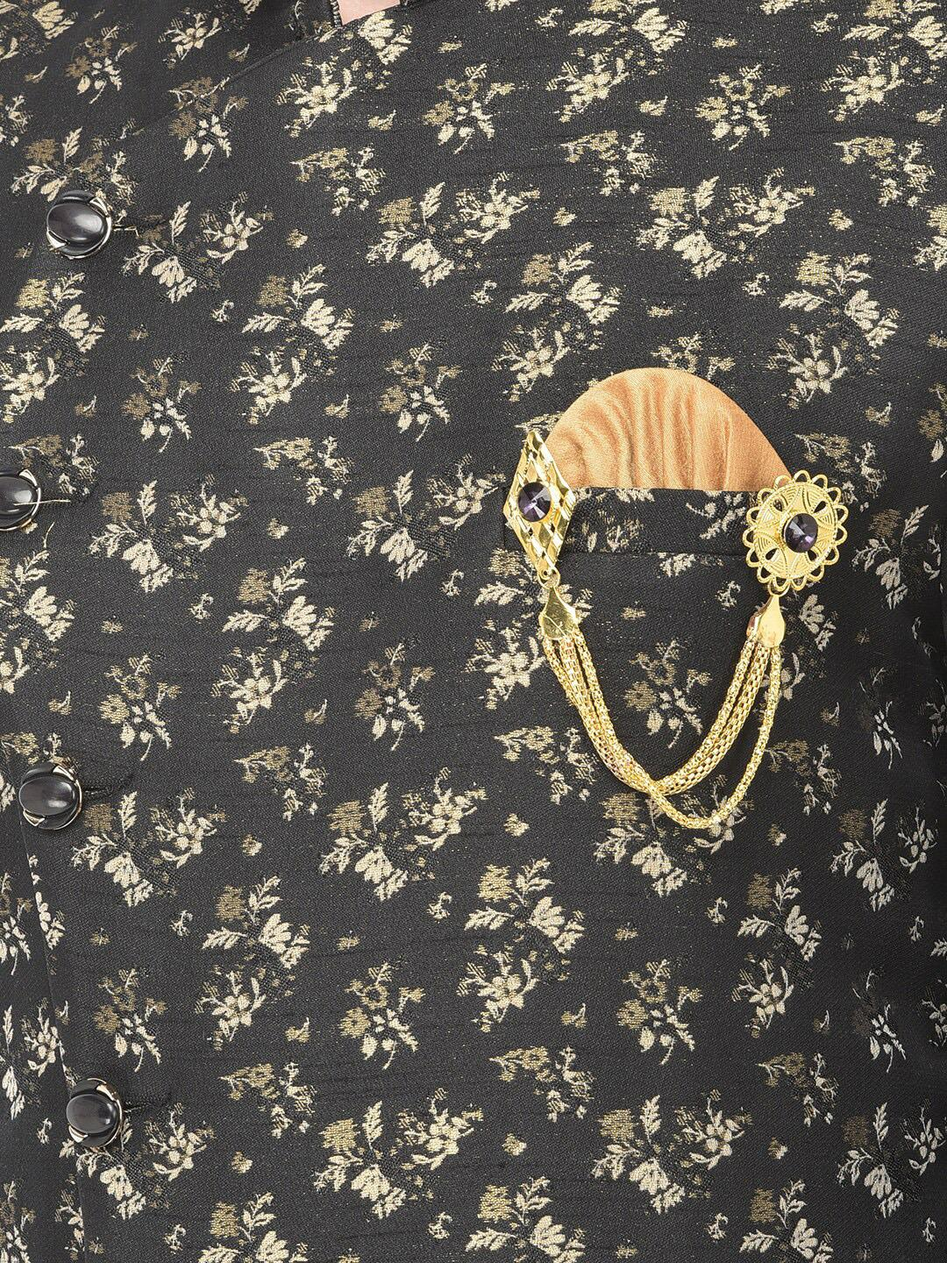Desgin sherwani: (4, 4, 945, 1259)
